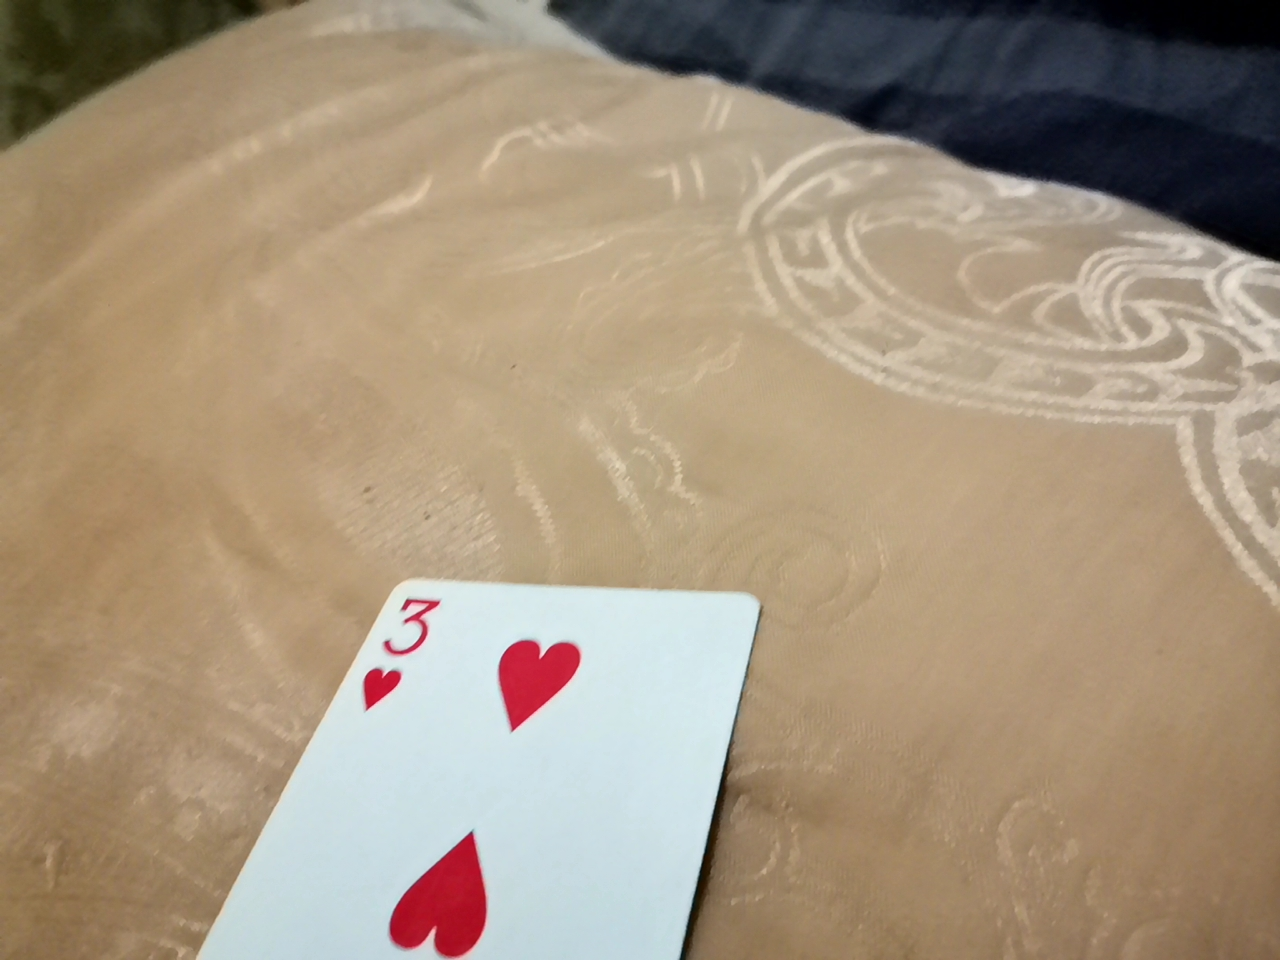hx 3: (123, 568, 770, 960)
